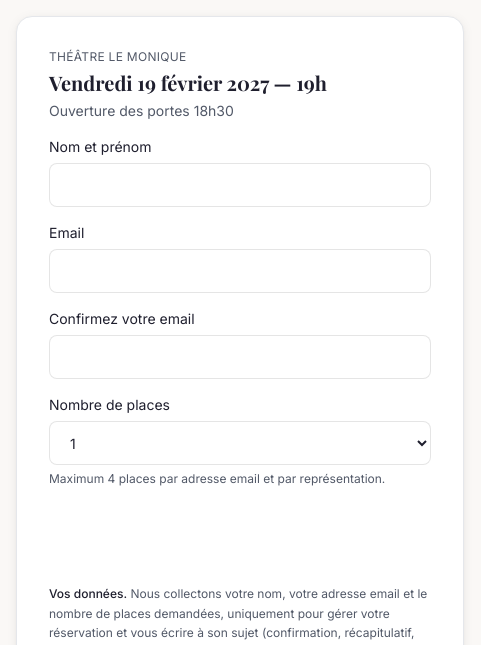
form › suggests a corrected address and applies it on click
The image size is (481, 645).
Earlier steps of the test are not shown.
(page scrolled)
Type "jean@gmial.com" into the field labelled "Email".
click(240, 271); type("jean@gmial.com")  # box x1=49 y1=249 x2=431 y2=293
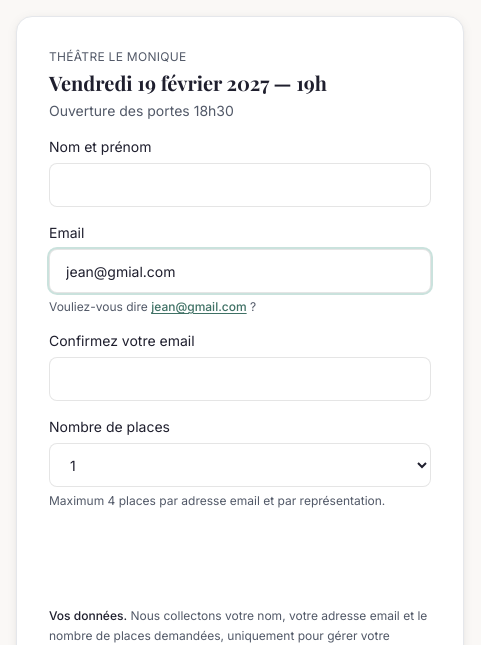
Click the button "jean@gmail.com".
click(199, 307)  # box x1=151 y1=299 x2=247 y2=315
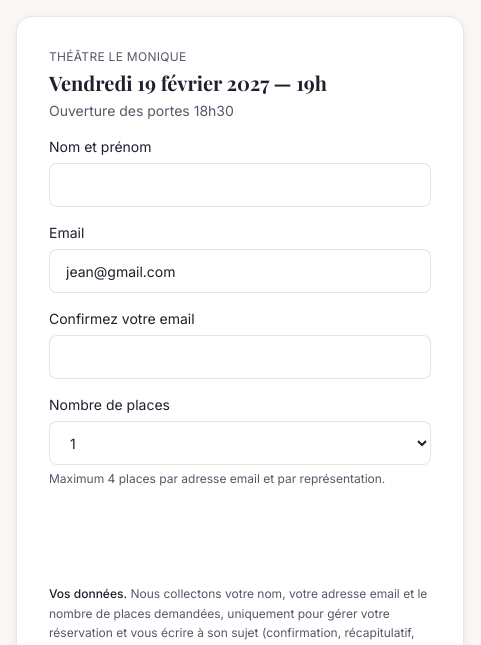
Result: the field labelled "Email" holds "jean@gmail.com" at x1=49 y1=249 x2=431 y2=293
